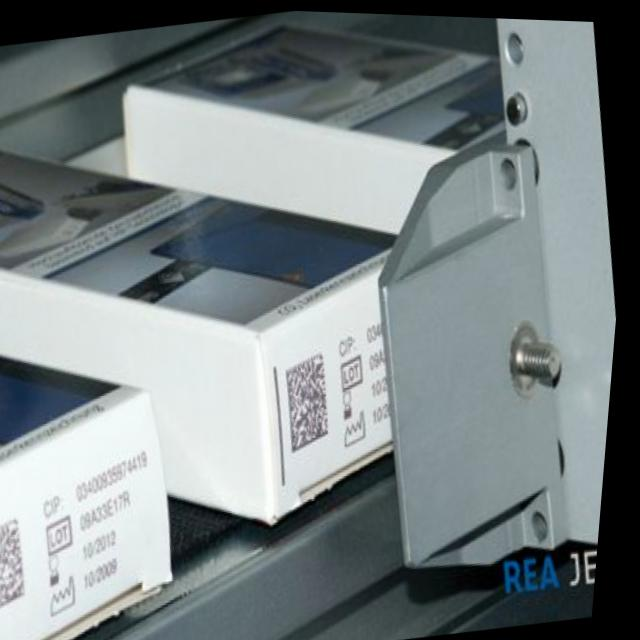datamatrix: (285, 349, 346, 453), (1, 513, 43, 614)
